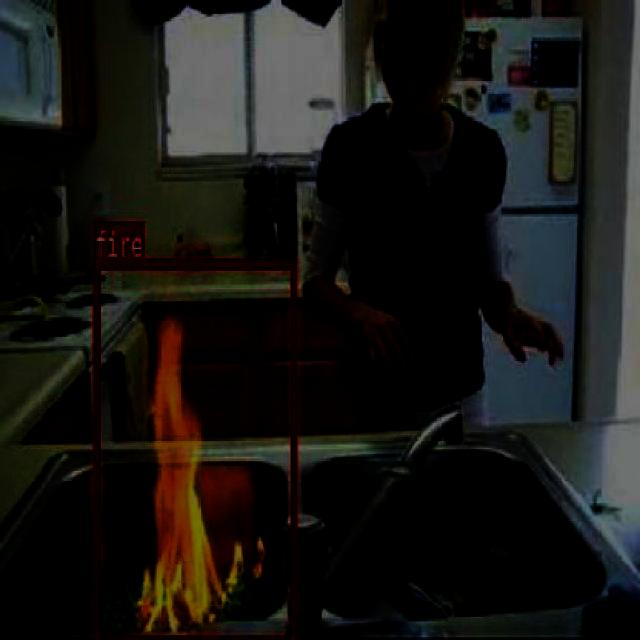fire: (90, 255, 296, 640)
